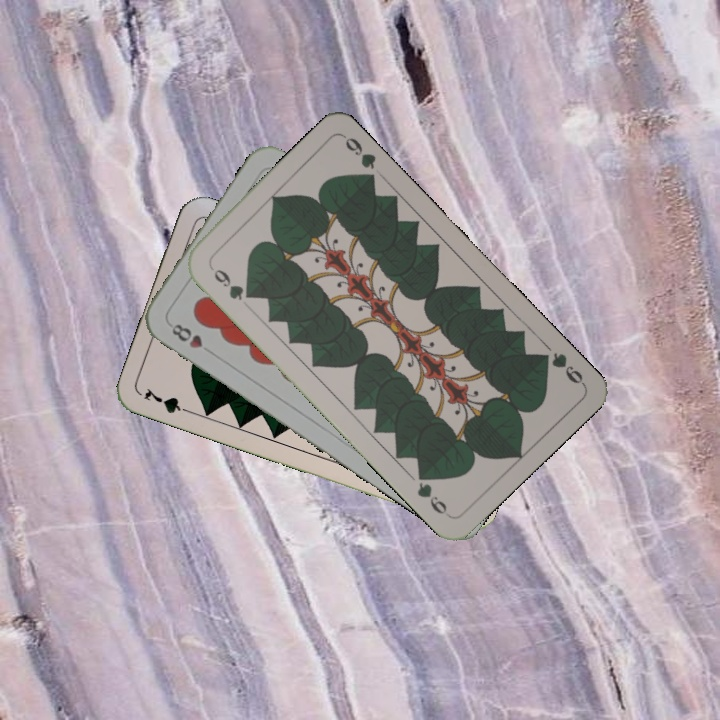G7: (140, 384, 197, 417)
G9: (533, 349, 587, 388), (205, 262, 255, 304)
H8: (167, 319, 217, 358)
